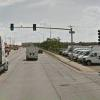Traffic light: (4, 18, 41, 40)
